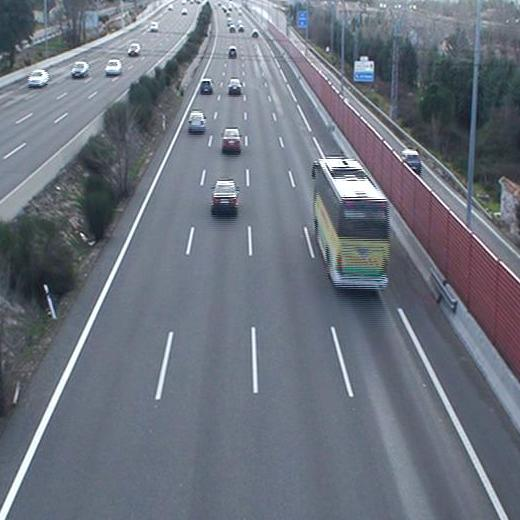bus: (308, 158, 393, 292)
car: (209, 180, 240, 215), (218, 127, 242, 156), (187, 110, 207, 132), (226, 79, 242, 95), (199, 79, 214, 95), (226, 46, 239, 58)
